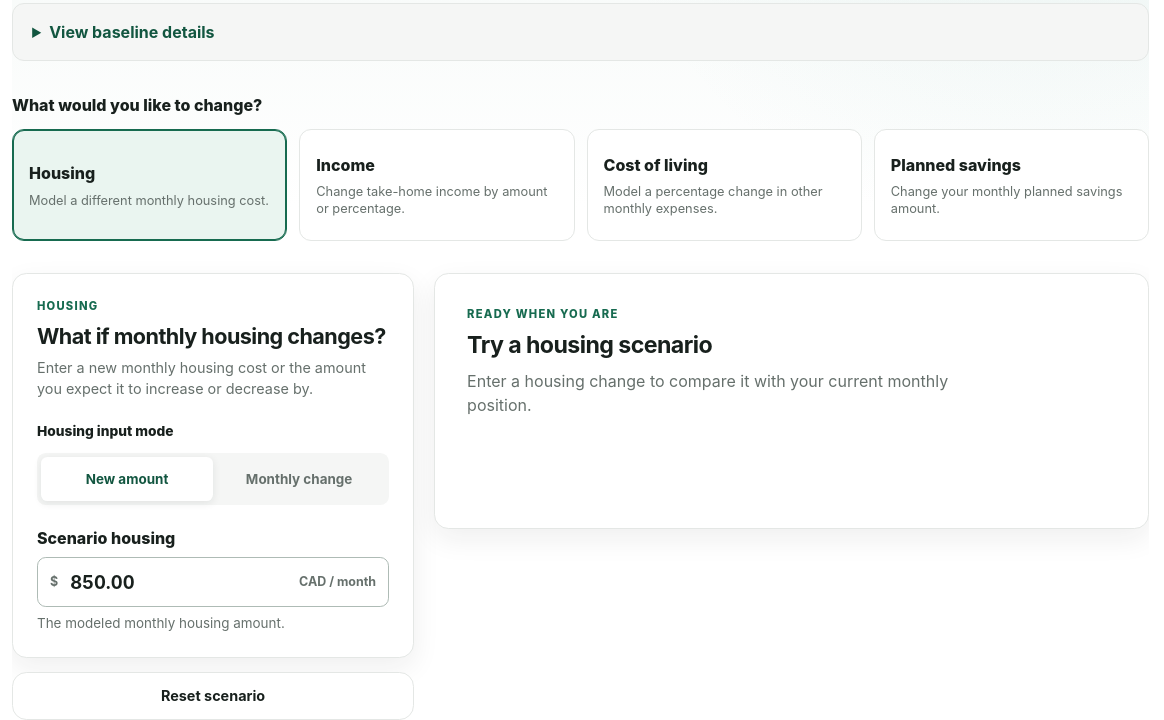
Test case: methodology experience › explains negative results neutrally
(page scrolled)
Step 1. Replace the text in the field labelled "Scenario housing" with "2000" → point(179, 582), box [70,558,287,606]
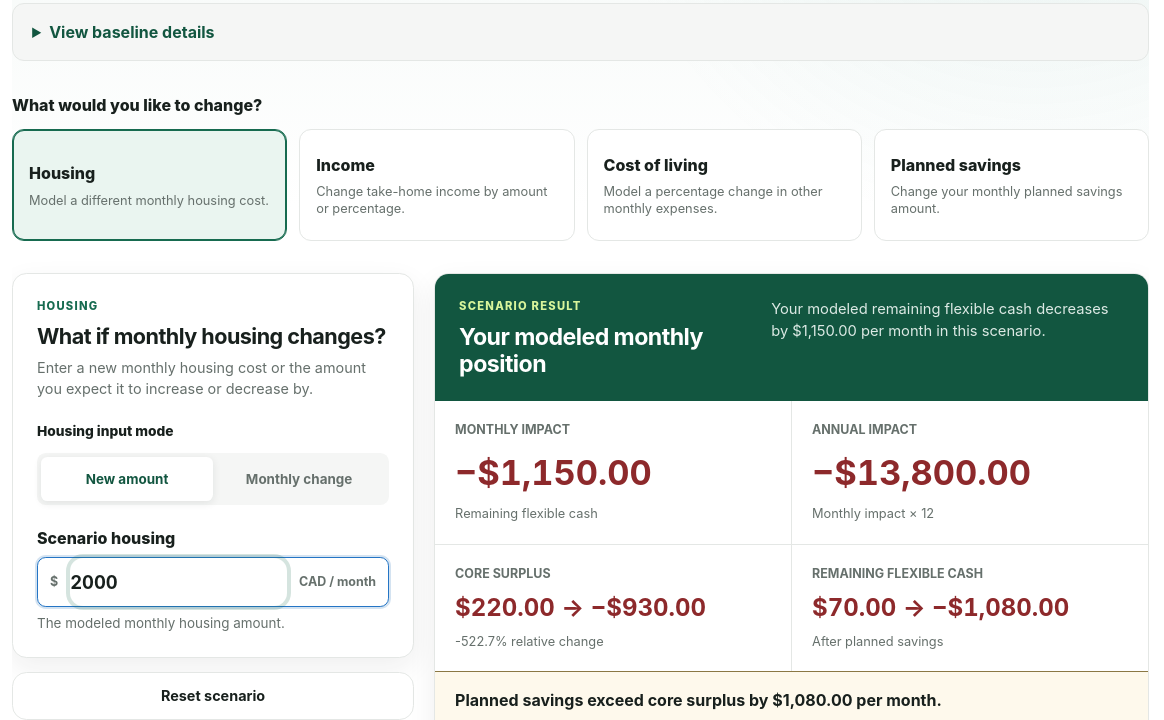
Expected: the text "remaining flexible cash decreases" is shown, [771,300,1109,340]
Expected: the text "−$1,080.00" is shown, [932,593,1069,622]
